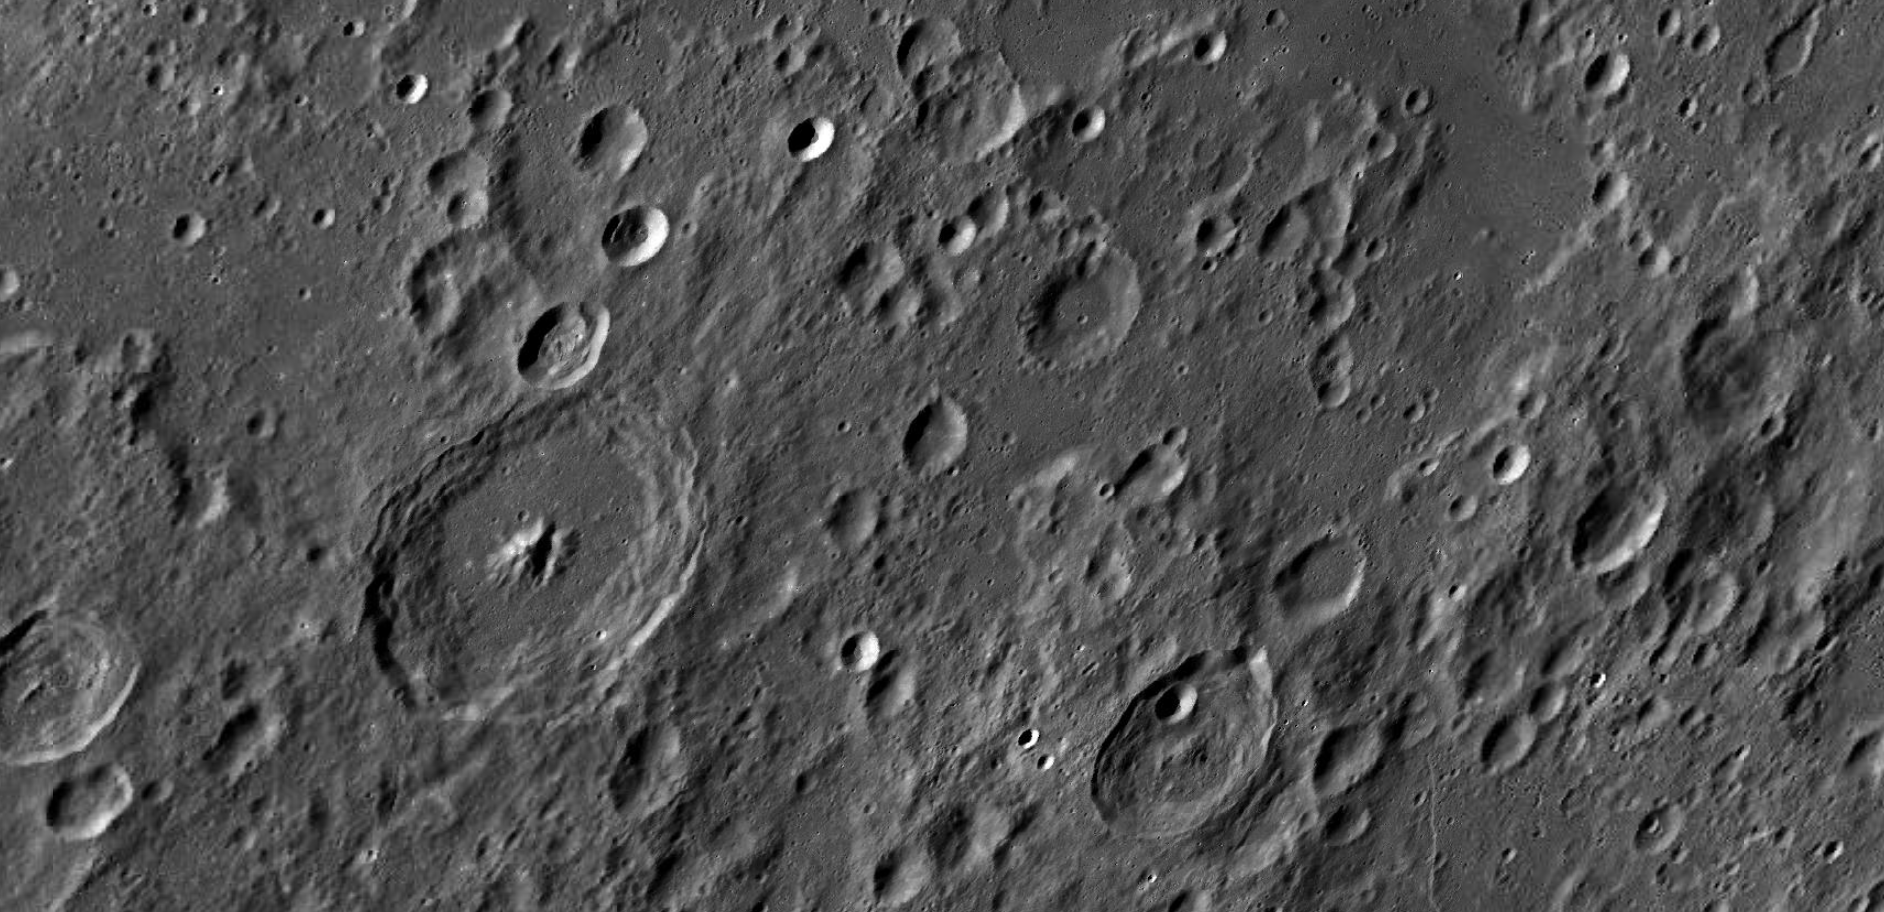crater: (338, 385, 720, 752), (1009, 236, 1155, 383), (1257, 517, 1384, 639), (488, 293, 642, 389), (888, 376, 992, 502), (745, 96, 849, 205), (566, 84, 660, 187), (586, 198, 702, 281), (792, 478, 894, 558), (1475, 433, 1543, 502), (812, 615, 884, 680), (154, 203, 223, 266), (451, 83, 524, 141), (376, 58, 440, 123), (1394, 77, 1439, 129)
